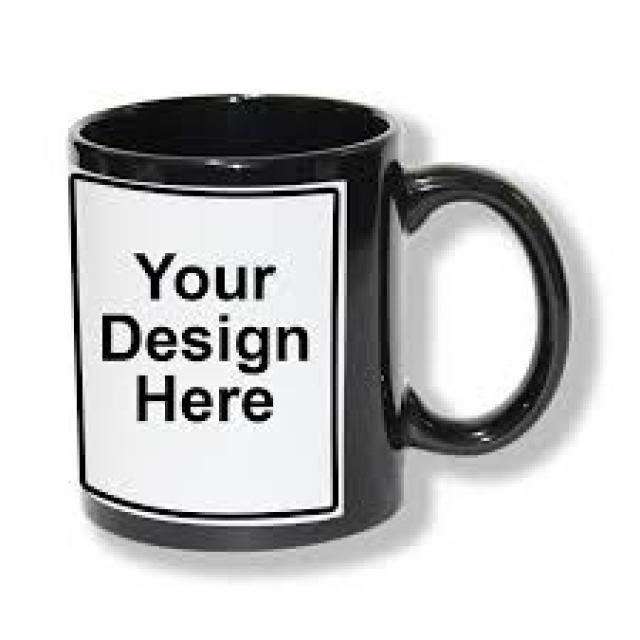taza: (33, 75, 580, 560)
